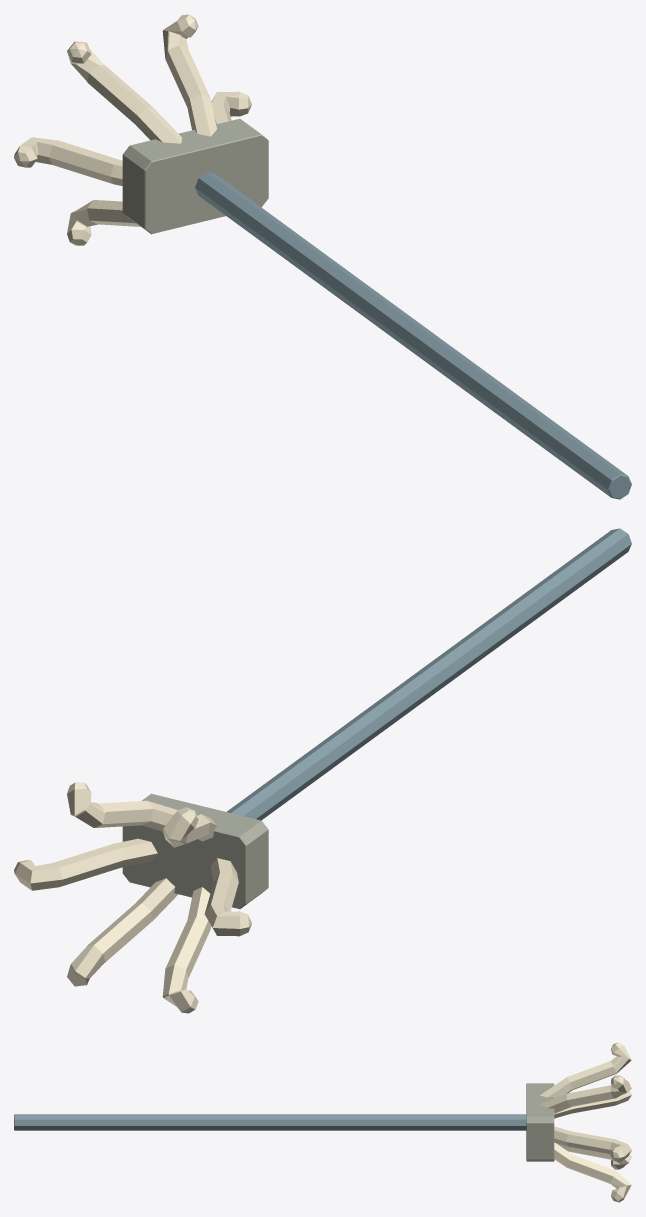
File: mop.glb
The picture shows the model from 3 angles, top to bottom: view 1: azimuth 30°, elevation 25°; view 2: azimuth 150°, elevation 25°; view 3: azimuth 270°, elevation 25°; orthographic projection. The views are drawn at different scales.
Visible parts, largest first — view 1: mop; view 2: mop; view 3: mop.
Boxes of the visible parts, x1,y1,x2,y2 form: mop: (14,14,631,499); mop: (14,528,631,1013); mop: (14,1042,631,1202).
Size of the model in its own units: 0.1078 by 0.0891 by 0.3964.
